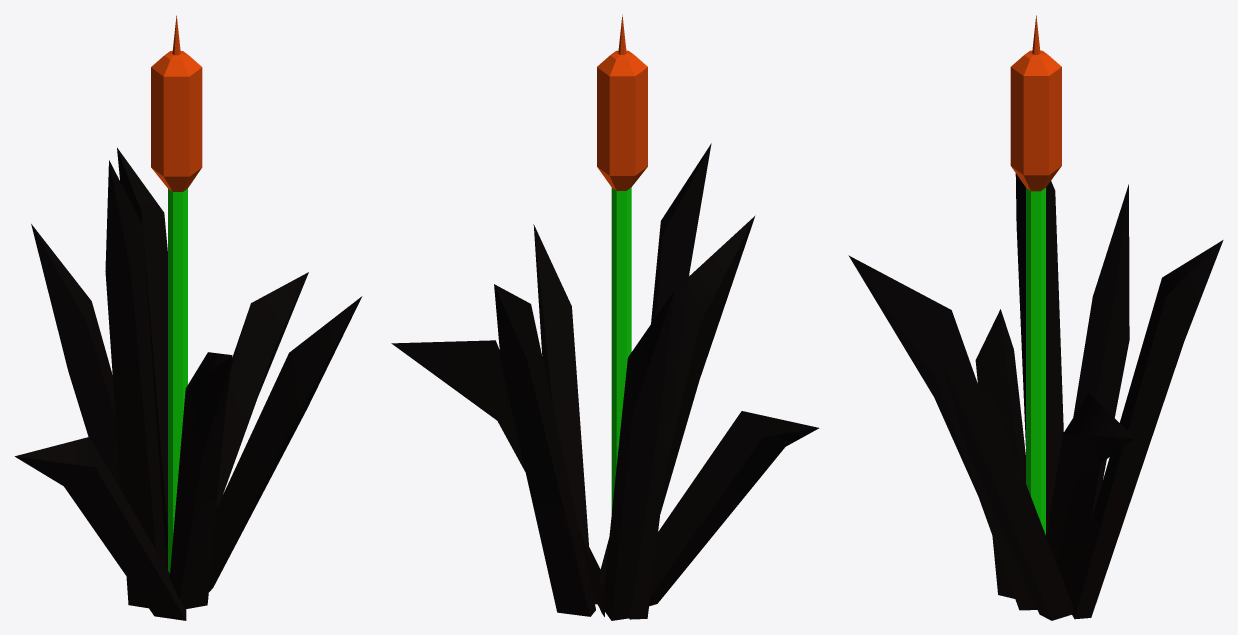
Rendered from SM_Cattail_fbx.fbx.
3 renders of one model, left to right at view 1: azimuth 30°, elevation 25°; view 2: azimuth 150°, elevation 25°; view 3: azimuth 270°, elevation 25°, orthographic.
Parts seen in each view (by area): view 1: SM_Plant_Reeds_01; view 2: SM_Plant_Reeds_01; view 3: SM_Plant_Reeds_01.
Boxes of the visible parts, x1,y1,x2,y2 form: SM_Plant_Reeds_01: (14,15,362,620); SM_Plant_Reeds_01: (391,14,819,620); SM_Plant_Reeds_01: (848,15,1223,620).
Bounding box in the file's own units: 83.19 × 75.16 × 129.
